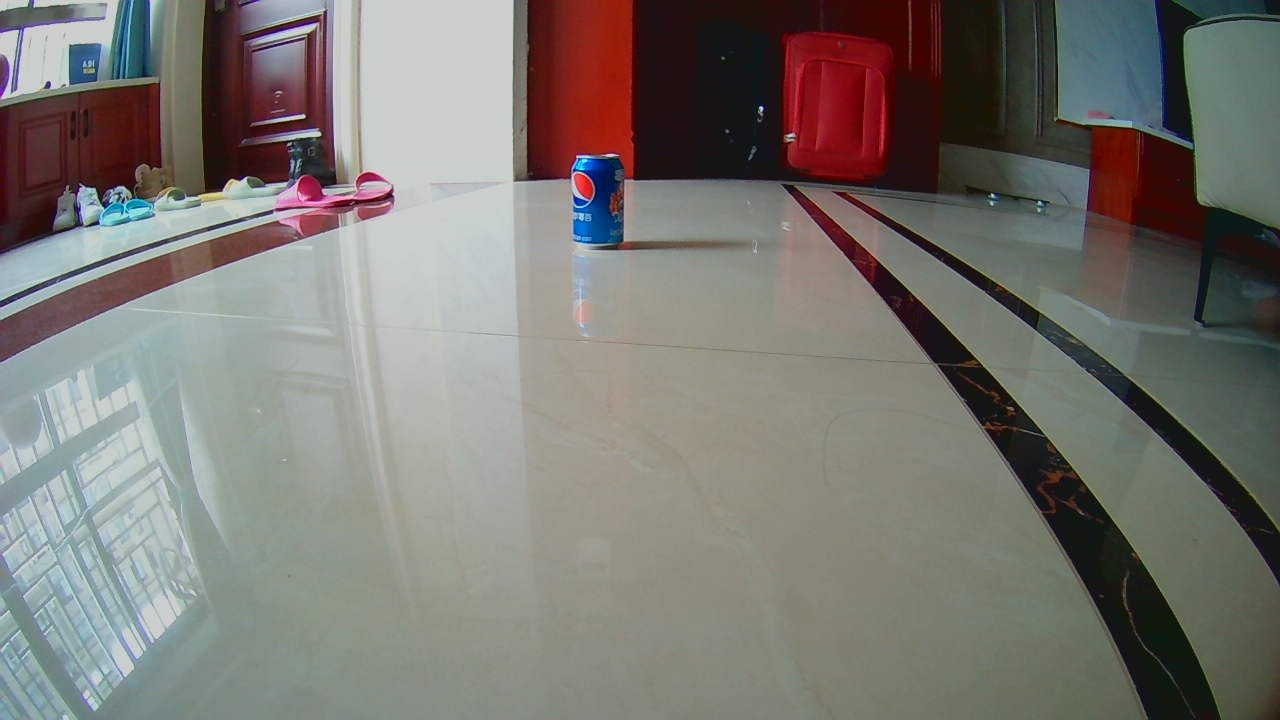pessi: (575, 154, 624, 241)
